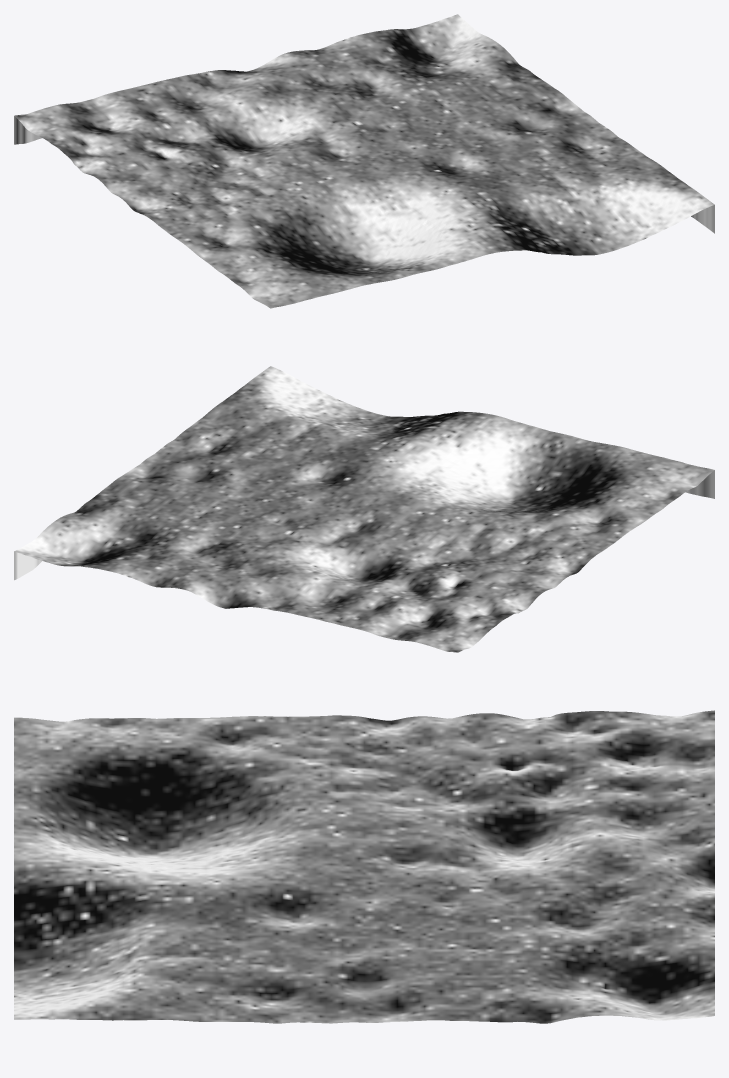
3 views of the same model, one above another, from view 1: azimuth 30°, elevation 25°; view 2: azimuth 150°, elevation 25°; view 3: azimuth 270°, elevation 25° (orthographic). The views are drawn at different scales.
Size of the model in its own units: 1277 by 167 by 1278.
Materials: 1 (1 with a texture image).
